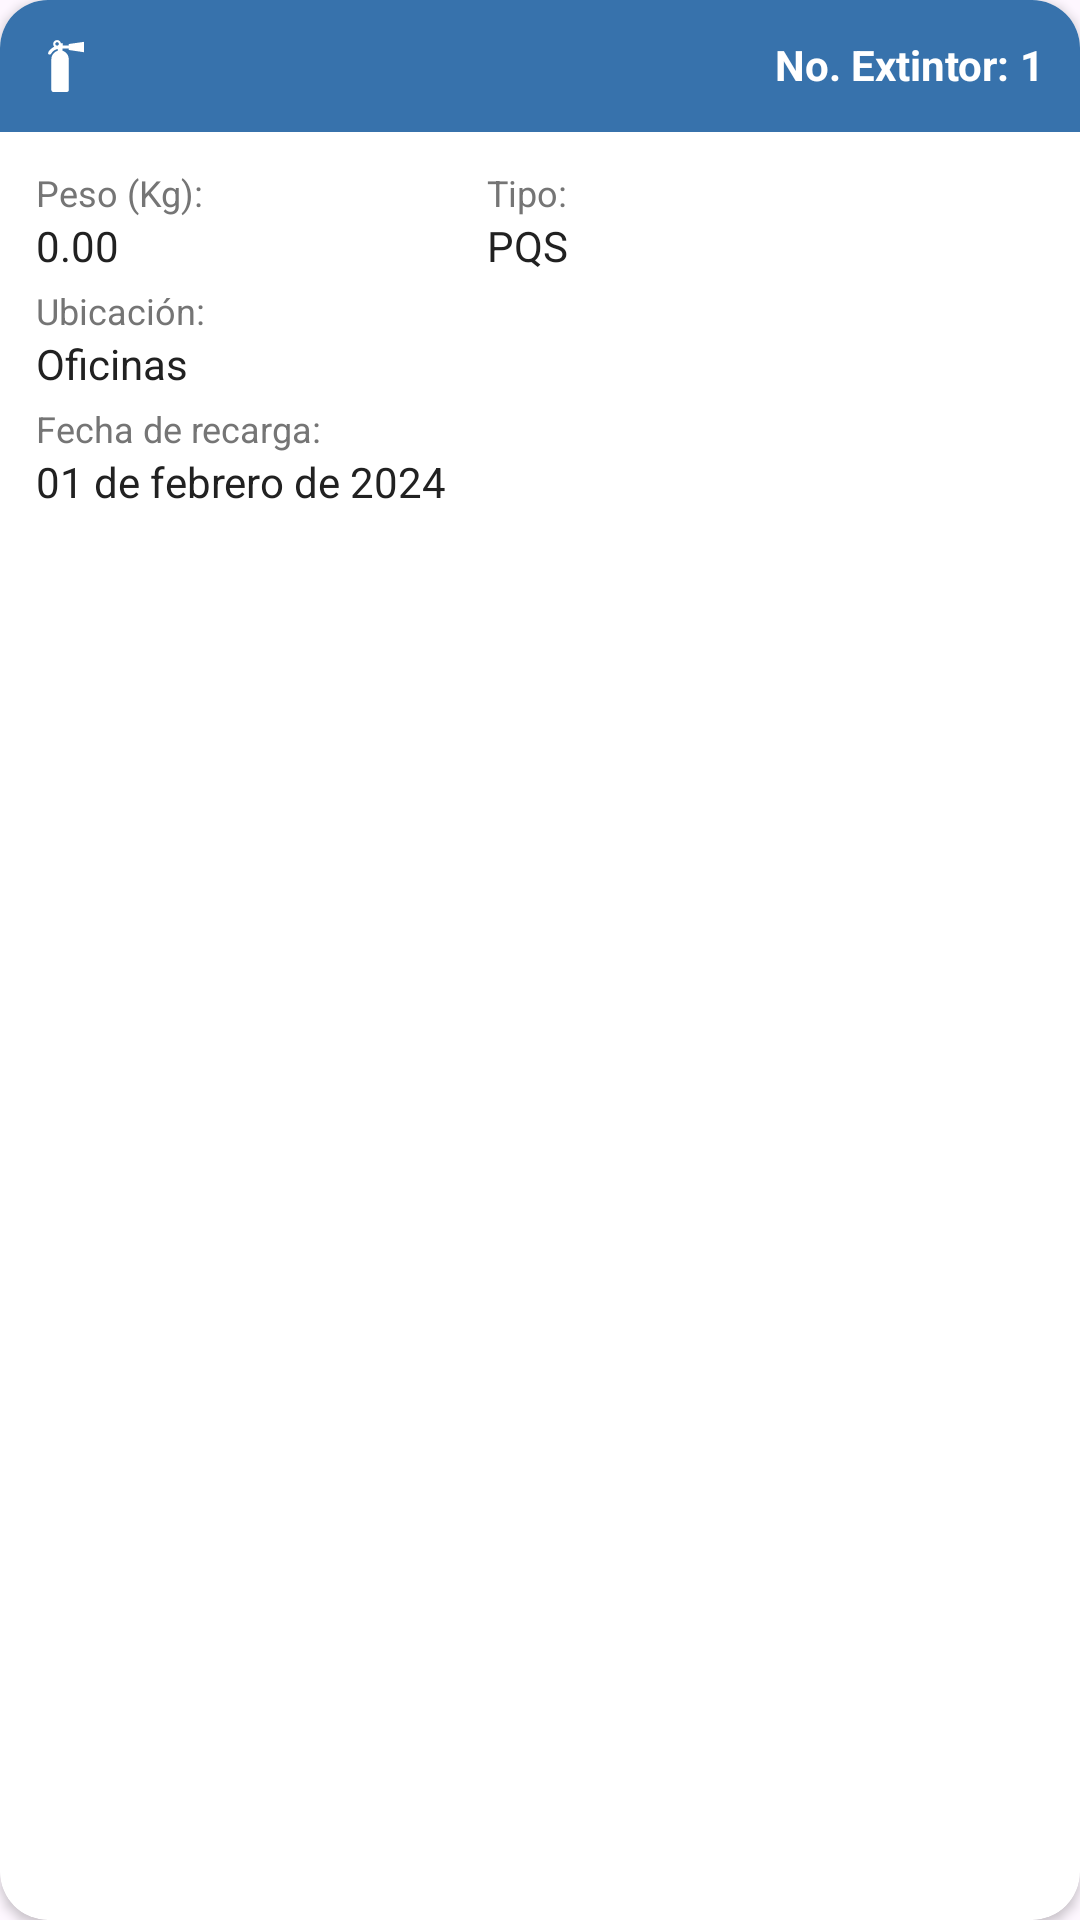

Icon click points for this 1080 x 1920 phone screenshot, format (x=x, y=y):
extintores: (x=66, y=66)
